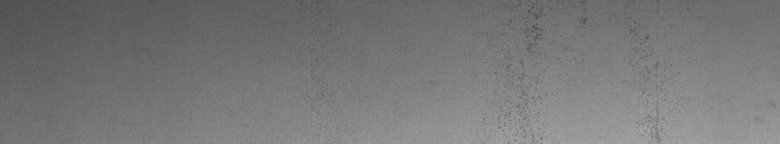ib: (482, 4, 659, 131)
